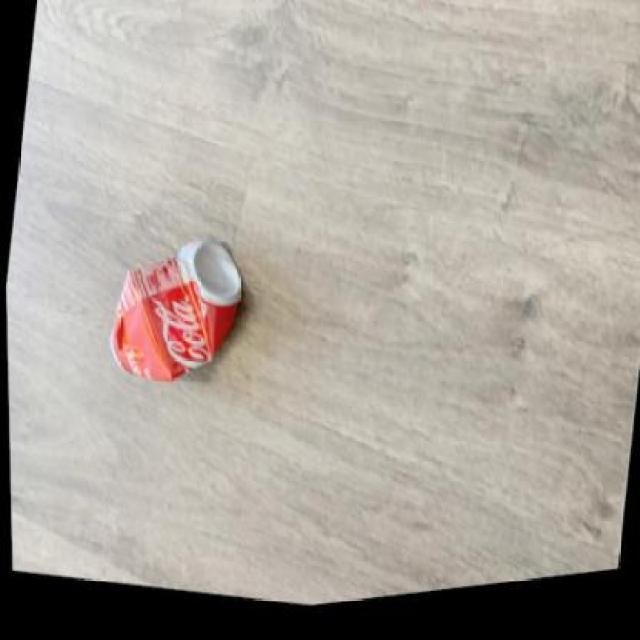Metal: (106, 237, 245, 391)
